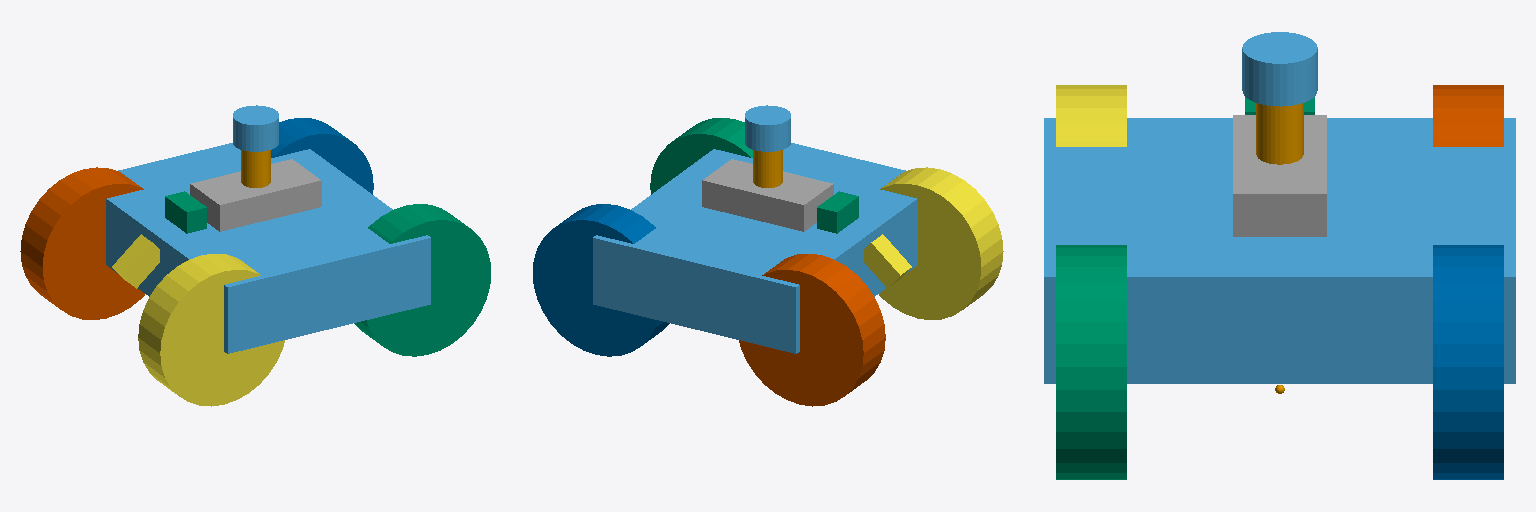
robot.urdf — lunabot:
<robot name="lunabot">

  <!-- base footprint on the ground -->
  <link name="base_footprint">
    <inertial>
      <origin xyz="0 0 0" rpy="0 0 0"/>
      <mass value="1.0"/>
      <inertia ixx="0.01" ixy="0" ixz="0" iyy="0.01" iyz="0" izz="0.01"/>
    </inertial>
    <visual>
      <origin xyz="0 0 0" rpy="0 0 0"/>
      <geometry>
        <sphere radius="0.01"/>
      </geometry>
    </visual>
    <collision>
      <origin xyz="0 0 0" rpy="0 0 0"/>
      <geometry>
        <sphere radius="0.01"/>
      </geometry>
    </collision>
  </link>

  <joint name="base_footprint_joint" type="fixed">
    <parent link="base_footprint"/>
    <child link="base_link"/>
    <!-- base_link center at z = 0.325 above ground -->
      <origin xyz="0 0 0.325" rpy="0 0 -1.5708"/>
  </joint>

  <!-- BODY: 1.0 x 0.8 x 0.25 m -->
  <link name="base_link">
    <inertial>
      <origin xyz="0 0 0" rpy="0 0 0"/>
      <mass value="20.0"/>
      <inertia ixx="1.0" ixy="0" ixz="0" iyy="1.0" iyz="0" izz="1.0"/>
    </inertial>
    <visual>
      <origin xyz="0 0 0" rpy="0 0 0"/>
      <geometry>
        <box size="1.0 0.8 0.25"/>
      </geometry>
    </visual>
    <collision>
      <origin xyz="0 0 0" rpy="0 0 0"/>
      <geometry>
        <box size="1.0 0.8 0.25"/>
      </geometry>
    </collision>
  </link>

  <!-- WHEELS (radius 0.25, width 0.15) -->
  <link name="wheel_fl_link">
    <inertial>
      <origin xyz="0 0 0" rpy="0 0 0"/>
      <mass value="3.0"/>
      <inertia ixx="0.02" ixy="0" ixz="0" iyy="0.02" iyz="0" izz="0.02"/>
    </inertial>
    <visual>
      <origin xyz="0 0 0" rpy="0 1.5708 0"/>
      <geometry>
        <cylinder radius="0.25" length="0.15"/>
      </geometry>
    </visual>
    <collision>
      <origin xyz="0 0 0" rpy="0 1.5708 0"/>
      <geometry>
        <cylinder radius="0.25" length="0.15"/>
      </geometry>
    </collision>
  </link>

  <link name="wheel_fr_link">
    <inertial>
      <origin xyz="0 0 0" rpy="0 0 0"/>
      <mass value="3.0"/>
      <inertia ixx="0.02" ixy="0" ixz="0" iyy="0.02" iyz="0" izz="0.02"/>
    </inertial>
    <visual>
      <origin xyz="0 0 0" rpy="0 1.5708 0"/>
      <geometry>
        <cylinder radius="0.25" length="0.15"/>
      </geometry>
    </visual>
    <collision>
      <origin xyz="0 0 0" rpy="0 1.5708 0"/>
      <geometry>
        <cylinder radius="0.25" length="0.15"/>
      </geometry>
    </collision>
  </link>

  <link name="wheel_rl_link">
    <inertial>
      <origin xyz="0 0 0" rpy="0 0 0"/>
      <mass value="3.0"/>
      <inertia ixx="0.02" ixy="0" ixz="0" iyy="0.02" iyz="0" izz="0.02"/>
    </inertial>
    <visual>
      <origin xyz="0 0 0" rpy="0 1.5708 0"/>
      <geometry>
        <cylinder radius="0.25" length="0.15"/>
      </geometry>
    </visual>
    <collision>
      <origin xyz="0 0 0" rpy="0 1.5708 0"/>
      <geometry>
        <cylinder radius="0.25" length="0.15"/>
      </geometry>
    </collision>
  </link>

  <link name="wheel_rr_link">
    <inertial>
      <origin xyz="0 0 0" rpy="0 0 0"/>
      <mass value="3.0"/>
      <inertia ixx="0.02" ixy="0" ixz="0" iyy="0.02" iyz="0" izz="0.02"/>
    </inertial>
    <visual>
      <origin xyz="0 0 0" rpy="0 1.5708 0"/>
      <geometry>
        <cylinder radius="0.25" length="0.15"/>
      </geometry>
    </visual>
    <collision>
      <origin xyz="0 0 0" rpy="0 1.5708 0"/>
      <geometry>
        <cylinder radius="0.25" length="0.15"/>
      </geometry>
    </collision>
  </link>

  <!-- wheel centers should be at z=0.25 above ground => offset -0.075 from base_link -->
  <joint name="wheel_fl_joint" type="continuous">
    <parent link="base_link"/>
    <child link="wheel_fl_link"/>
    <origin xyz="0.40 0.40 -0.075" rpy="0 0 0"/>
    <axis xyz="0 1 0"/>
  </joint>

  <joint name="wheel_fr_joint" type="continuous">
    <parent link="base_link"/>
    <child link="wheel_fr_link"/>
    <origin xyz="0.40 -0.40 -0.075" rpy="0 0 0"/>
    <axis xyz="0 1 0"/>
  </joint>

  <joint name="wheel_rl_joint" type="continuous">
    <parent link="base_link"/>
    <child link="wheel_rl_link"/>
    <origin xyz="-0.40 0.40 -0.075" rpy="0 0 0"/>
    <axis xyz="0 1 0"/>
  </joint>

  <joint name="wheel_rr_joint" type="continuous">
    <parent link="base_link"/>
    <child link="wheel_rr_link"/>
    <origin xyz="-0.40 -0.40 -0.075" rpy="0 0 0"/>
    <axis xyz="0 1 0"/>
  </joint>

  <!-- IMU at body center -->
  <link name="imu_link">
    <inertial>
      <origin xyz="0 0 0" rpy="0 0 0"/>
      <mass value="0.2"/>
      <inertia ixx="0.001" ixy="0" ixz="0" iyy="0.001" iyz="0" izz="0.001"/>
    </inertial>
    <visual>
      <origin xyz="0 0 0" rpy="0 0 0"/>
      <geometry>
        <box size="0.05 0.05 0.05"/>
      </geometry>
    </visual>
    <collision>
      <origin xyz="0 0 0" rpy="0 0 0"/>
      <geometry>
        <box size="0.05 0.05 0.05"/>
      </geometry>
    </collision>
  </link>

  <joint name="imu_joint" type="fixed">
    <parent link="base_link"/>
    <child link="imu_link"/>
    <!-- imu at center of body -->
    <origin xyz="0 0 0" rpy="0 0 0"/>
  </joint>

  <!-- CAMERA MOUNT BOX at center top of body -->
  <link name="camera_mount_link">
    <inertial>
      <origin xyz="0 0 0" rpy="0 0 0"/>
      <mass value="0.8"/>
      <inertia ixx="0.01" ixy="0" ixz="0" iyy="0.01" iyz="0" izz="0.01"/>
    </inertial>
    <visual>
      <origin xyz="0 0 0" rpy="0 0 0"/>
      <geometry>
        <box size="0.40 0.20 0.10"/>
      </geometry>
    </visual>
    <collision>
      <origin xyz="0 0 0" rpy="0 0 0"/>
      <geometry>
        <box size="0.40 0.20 0.10"/>
      </geometry>
    </collision>
  </link>

  <!-- body top is at +0.125, camera box half-height 0.05 => center at 0.175 -->
  <joint name="camera_mount_joint" type="fixed">
    <parent link="base_link"/>
    <child link="camera_mount_link"/>
   <origin xyz="0 0 0.175" rpy="0 0 -1.5708"/>
  </joint>

  <!-- MAST on top of camera box -->
  <link name="mast_link">
    <inertial>
      <origin xyz="0 0 0" rpy="0 0 0"/>
      <mass value="1.0"/>
      <inertia ixx="0.01" ixy="0" ixz="0" iyy="0.01" iyz="0" izz="0.01"/>
    </inertial>
    <visual>
      <origin xyz="0 0 0" rpy="0 0 0"/>
      <geometry>
        <cylinder radius="0.05" length="0.20"/>
      </geometry>
    </visual>
    <collision>
      <origin xyz="0 0 0" rpy="0 0 0"/>
      <geometry>
        <cylinder radius="0.05" length="0.20"/>
      </geometry>
    </collision>
  </link>

  <!-- camera box half-thickness 0.05; mast half-length 0.10; so joint at 0.15 above box center -->
  <joint name="mast_joint" type="fixed">
    <parent link="camera_mount_link"/>
    <child link="mast_link"/>
    <origin xyz="0 0 0.15" rpy="0 0 0"/>
  </joint>

  <!-- LIDAR at top of mast -->
  <link name="lidar_link">
    <inertial>
      <origin xyz="0 0 0" rpy="0 0 0"/>
      <mass value="0.5"/>
      <inertia ixx="0.005" ixy="0" ixz="0" iyy="0.005" iyz="0" izz="0.005"/>
    </inertial>
    <visual>
      <origin xyz="0 0 0" rpy="0 0 0"/>
      <geometry>
        <cylinder radius="0.08" length="0.10"/>
      </geometry>
    </visual>
    <collision>
      <origin xyz="0 0 0" rpy="0 0 0"/>
      <geometry>
        <cylinder radius="0.08" length="0.10"/>
      </geometry>
    </collision>
  </link>

  <joint name="lidar_joint" type="fixed">
    <parent link="mast_link"/>
    <child link="lidar_link"/>
    <origin xyz="0 0 0.10" rpy="0 0 0"/>
  </joint>

  <!-- RGB CAMERA in front of camera box -->
  <link name="rgb_camera_link">
    <inertial>
      <origin xyz="0 0 0" rpy="0 0 0"/>
      <mass value="0.3"/>
      <inertia ixx="0.001" ixy="0" ixz="0" iyy="0.001" iyz="0" izz="0.001"/>
    </inertial>
    <visual>
      <origin xyz="0 0 0" rpy="0 0 0"/>
      <geometry>
        <box size="0.15 0.08 0.08"/>
      </geometry>
    </visual>
    <collision>
      <origin xyz="0 0 0" rpy="0 0 0"/>
      <geometry>
        <box size="0.15 0.08 0.08"/>
      </geometry>
    </collision>
  </link>

  <!-- camera box half-length = 0.2, camera half-length = 0.075 => 0.275 forward -->
  <joint name="rgb_camera_joint" type="fixed">
    <parent link="camera_mount_link"/>
    <child link="rgb_camera_link"/>
    <origin xyz="0.275 0 0" rpy="0 0 -1.5708"/>
  </joint>

  <!-- DEPTH CAMERA on the front of the main body, looking down -->
  <link name="depth_camera_link">
    <inertial>
      <origin xyz="0 0 0" rpy="0 0 0"/>
      <mass value="0.3"/>
      <inertia ixx="0.001" ixy="0" ixz="0" iyy="0.001" iyz="0" izz="0.001"/>
    </inertial>
    <visual>
      <origin xyz="0 0 0" rpy="0 0 0"/>
      <geometry>
        <box size="0.15 0.08 0.08"/>
      </geometry>
    </visual>
    <collision>
      <origin xyz="0 0 0" rpy="0 0 0"/>
      <geometry>
        <box size="0.15 0.08 0.08"/>
      </geometry>
    </collision>
  </link>

  <!-- body front face at x=+0.5, camera half-length 0.075 => 0.575 forward -->
  <joint name="depth_camera_joint" type="fixed">
    <parent link="camera_mount_link"/>
    <child link="depth_camera_link"/>
     <origin xyz="0.46 0 -0.14" rpy="0 0.7 0"/>
  </joint>

  <!-- GAZEBO PLUGINS -->

  <gazebo reference="base_link">
  <plugin name="diff_drive" filename="libgazebo_ros_diff_drive.so">
    <ros>
      <namespace>/</namespace>
      <remapping>cmd_vel:=/cmd_vel</remapping>
      <remapping>odom:=/odom</remapping>
    </ros>

    <!-- DRIVE WHEELS ONLY -->
    <left_joint>wheel_fl_joint</left_joint>
    <right_joint>wheel_fr_joint</right_joint>

    <wheel_separation>0.8</wheel_separation>
    <wheel_radius>0.25</wheel_radius>

    <odom_frame>odom</odom_frame>
    <robot_base_frame>base_link</robot_base_frame>
    <publish_odom>true</publish_odom>
    <publish_tf>true</publish_tf>
  </plugin>
</gazebo>


  <!-- wheel friction -->
  <gazebo reference="wheel_fl_link">
    <mu1>1.0</mu1>
    <mu2>1.0</mu2>
    <kp>1000000.0</kp>
    <kd>10.0</kd>
  </gazebo>

  <gazebo reference="wheel_fr_link">
    <mu1>1.0</mu1>
    <mu2>1.0</mu2>
    <kp>1000000.0</kp>
    <kd>10.0</kd>
  </gazebo>

  <gazebo reference="wheel_rl_link">
    <mu1>1.0</mu1>
    <mu2>1.0</mu2>
    <kp>1000000.0</kp>
    <kd>10.0</kd>
  </gazebo>

  <gazebo reference="wheel_rr_link">
    <mu1>1.0</mu1>
    <mu2>1.0</mu2>
    <kp>1000000.0</kp>
    <kd>10.0</kd>
  </gazebo>

  <!-- IMU sensor -->
  <gazebo reference="imu_link">
    <sensor type="imu" name="imu_sensor">
      <always_on>true</always_on>
      <update_rate>50.0</update_rate>
      <plugin name="imu_plugin" filename="libgazebo_ros_imu.so">
        <ros>
          <namespace>/</namespace>
          <remapping>imu:=/imu</remapping>
        </ros>
        <frame_name>imu_link</frame_name>
      </plugin>
    </sensor>
  </gazebo>

  <!-- LiDAR sensor -->
  <gazebo reference="lidar_link">
    <sensor type="ray" name="lidar_sensor">
      <pose>0 0 0 0 0 0</pose>
      <always_on>true</always_on>
      <update_rate>10.0</update_rate>
      <visualize>true</visualize>
      <ray>
        <scan>
          <horizontal>
            <samples>720</samples>
            <resolution>1</resolution>
            <min_angle>-3.14159</min_angle>
            <max_angle>3.14159</max_angle>
          </horizontal>
        </scan>
        <range>
          <min>0.1</min>
          <max>30.0</max>
          <resolution>0.01</resolution>
        </range>
      </ray>
      <plugin name="lidar_plugin" filename="libgazebo_ros_ray_sensor.so">
        <ros>
          <namespace>/</namespace>
          <remapping>scan:=/scan</remapping>
        </ros>
        <frame_name>lidar_link</frame_name>
      </plugin>
    </sensor>
  </gazebo>

  <!-- RGB camera sensor -->
  <gazebo reference="rgb_camera_link">
    <sensor type="camera" name="rgb_camera_sensor">
      <always_on>true</always_on>
      <update_rate>15.0</update_rate>
      <camera>
        <horizontal_fov>1.047</horizontal_fov>
        <image>
          <width>640</width>
          <height>480</height>
          <format>R8G8B8</format>
        </image>
        <clip>
          <near>0.1</near>
          <far>50.0</far>
        </clip>
      </camera>
      <plugin name="rgb_camera_plugin" filename="libgazebo_ros_camera.so">
        <ros>
          <namespace>/</namespace>
          <remapping>image_raw:=/rgb_camera/image_raw</remapping>
          <remapping>camera_info:=/rgb_camera/camera_info</remapping>
        </ros>
        <frame_name>rgb_camera_link</frame_name>
      </plugin>
    </sensor>
  </gazebo>

  <!-- Depth camera sensor -->
  <gazebo reference="depth_camera_link">
    <sensor type="depth" name="depth_camera_sensor">
      <always_on>true</always_on>
      <update_rate>15.0</update_rate>
      <camera>
        <horizontal_fov>1.047</horizontal_fov>
        <image>
          <width>640</width>
          <height>480</height>
          <format>R8G8B8</format>
        </image>
        <clip>
          <near>0.2</near>
          <far>30.0</far>
        </clip>
      </camera>
      <plugin name="depth_camera_plugin" filename="libgazebo_ros_depth_camera.so">
        <ros>
          <namespace>/</namespace>
          <remapping>image_raw:=/depth_camera/image_raw</remapping>
          <remapping>camera_info:=/depth_camera/camera_info</remapping>
          <remapping>depth:=/depth_camera/depth</remapping>
        </ros>
        <frame_name>depth_camera_link</frame_name>
      </plugin>
    </sensor>
  </gazebo>

</robot>

--- Facts derived from the render (not from the file) ---
3 views of the same robot in one strip: view 1: azimuth 30°, elevation 25°; view 2: azimuth 150°, elevation 25°; view 3: azimuth 270°, elevation 25° (orthographic).
Robot: lunabot — 12 links, 11 joints (4 continuous, 7 fixed); root link base_footprint; default pose: all joints at 0.
Links seen in each view (by area): view 1: base_link, wheel_fr_link, wheel_rr_link, wheel_fl_link, camera_mount_link, wheel_rl_link, lidar_link, depth_camera_link, rgb_camera_link, mast_link; view 2: base_link, wheel_rr_link, wheel_fr_link, wheel_rl_link, camera_mount_link, wheel_fl_link, lidar_link, depth_camera_link, rgb_camera_link, mast_link; view 3: base_link, wheel_fl_link, wheel_rl_link, camera_mount_link, lidar_link, wheel_fr_link, wheel_rr_link, mast_link.
Boxes of the visible links, x1,y1,x2,y2 form: base_link: [106, 143, 430, 353]; wheel_fr_link: [138, 254, 284, 406]; wheel_rr_link: [20, 167, 144, 319]; wheel_fl_link: [354, 204, 490, 356]; camera_mount_link: [190, 159, 321, 231]; wheel_rl_link: [271, 118, 373, 194]; lidar_link: [233, 105, 278, 151]; depth_camera_link: [112, 234, 159, 288]; rgb_camera_link: [165, 191, 206, 233]; mast_link: [241, 150, 270, 187]; base_link: [593, 143, 917, 353]; wheel_rr_link: [739, 254, 885, 406]; wheel_fr_link: [879, 167, 1003, 319]; wheel_rl_link: [533, 204, 669, 356]; camera_mount_link: [702, 159, 833, 231]; wheel_fl_link: [650, 118, 752, 194]; lidar_link: [745, 105, 790, 151]; depth_camera_link: [864, 234, 911, 288]; rgb_camera_link: [817, 191, 858, 233]; mast_link: [753, 150, 782, 187]; base_link: [1044, 118, 1515, 383]; wheel_fl_link: [1056, 245, 1126, 479]; wheel_rl_link: [1433, 245, 1503, 479]; camera_mount_link: [1233, 115, 1326, 236]; lidar_link: [1242, 32, 1317, 106]; wheel_fr_link: [1056, 85, 1126, 146]; wheel_rr_link: [1433, 85, 1503, 146]; mast_link: [1256, 103, 1303, 164].
Bounding box of the posed robot: 1.3 × 1 × 0.81 m (x, y, z).
Geometry: primitives only (box / cylinder / sphere), no mesh files.
